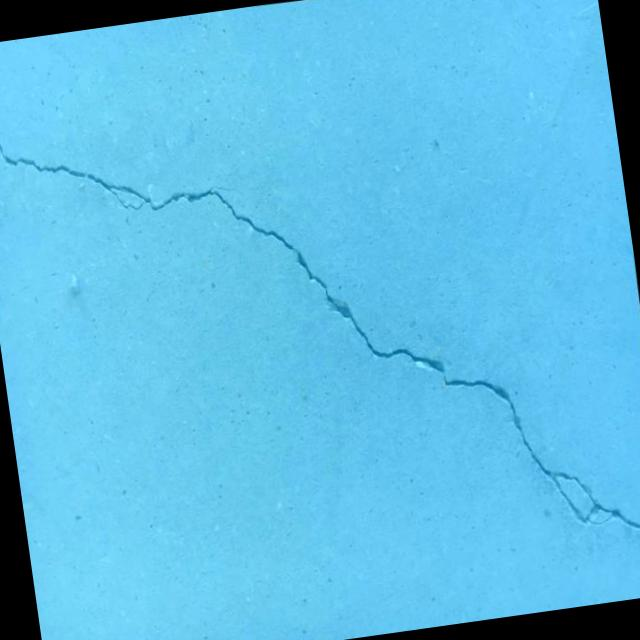crack: (0, 33, 640, 628)
